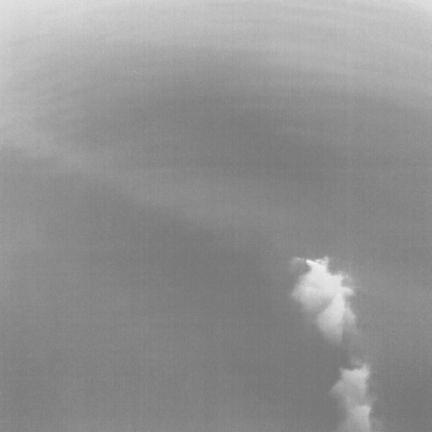flukeprints: (292, 259, 354, 346), (331, 364, 372, 431)
